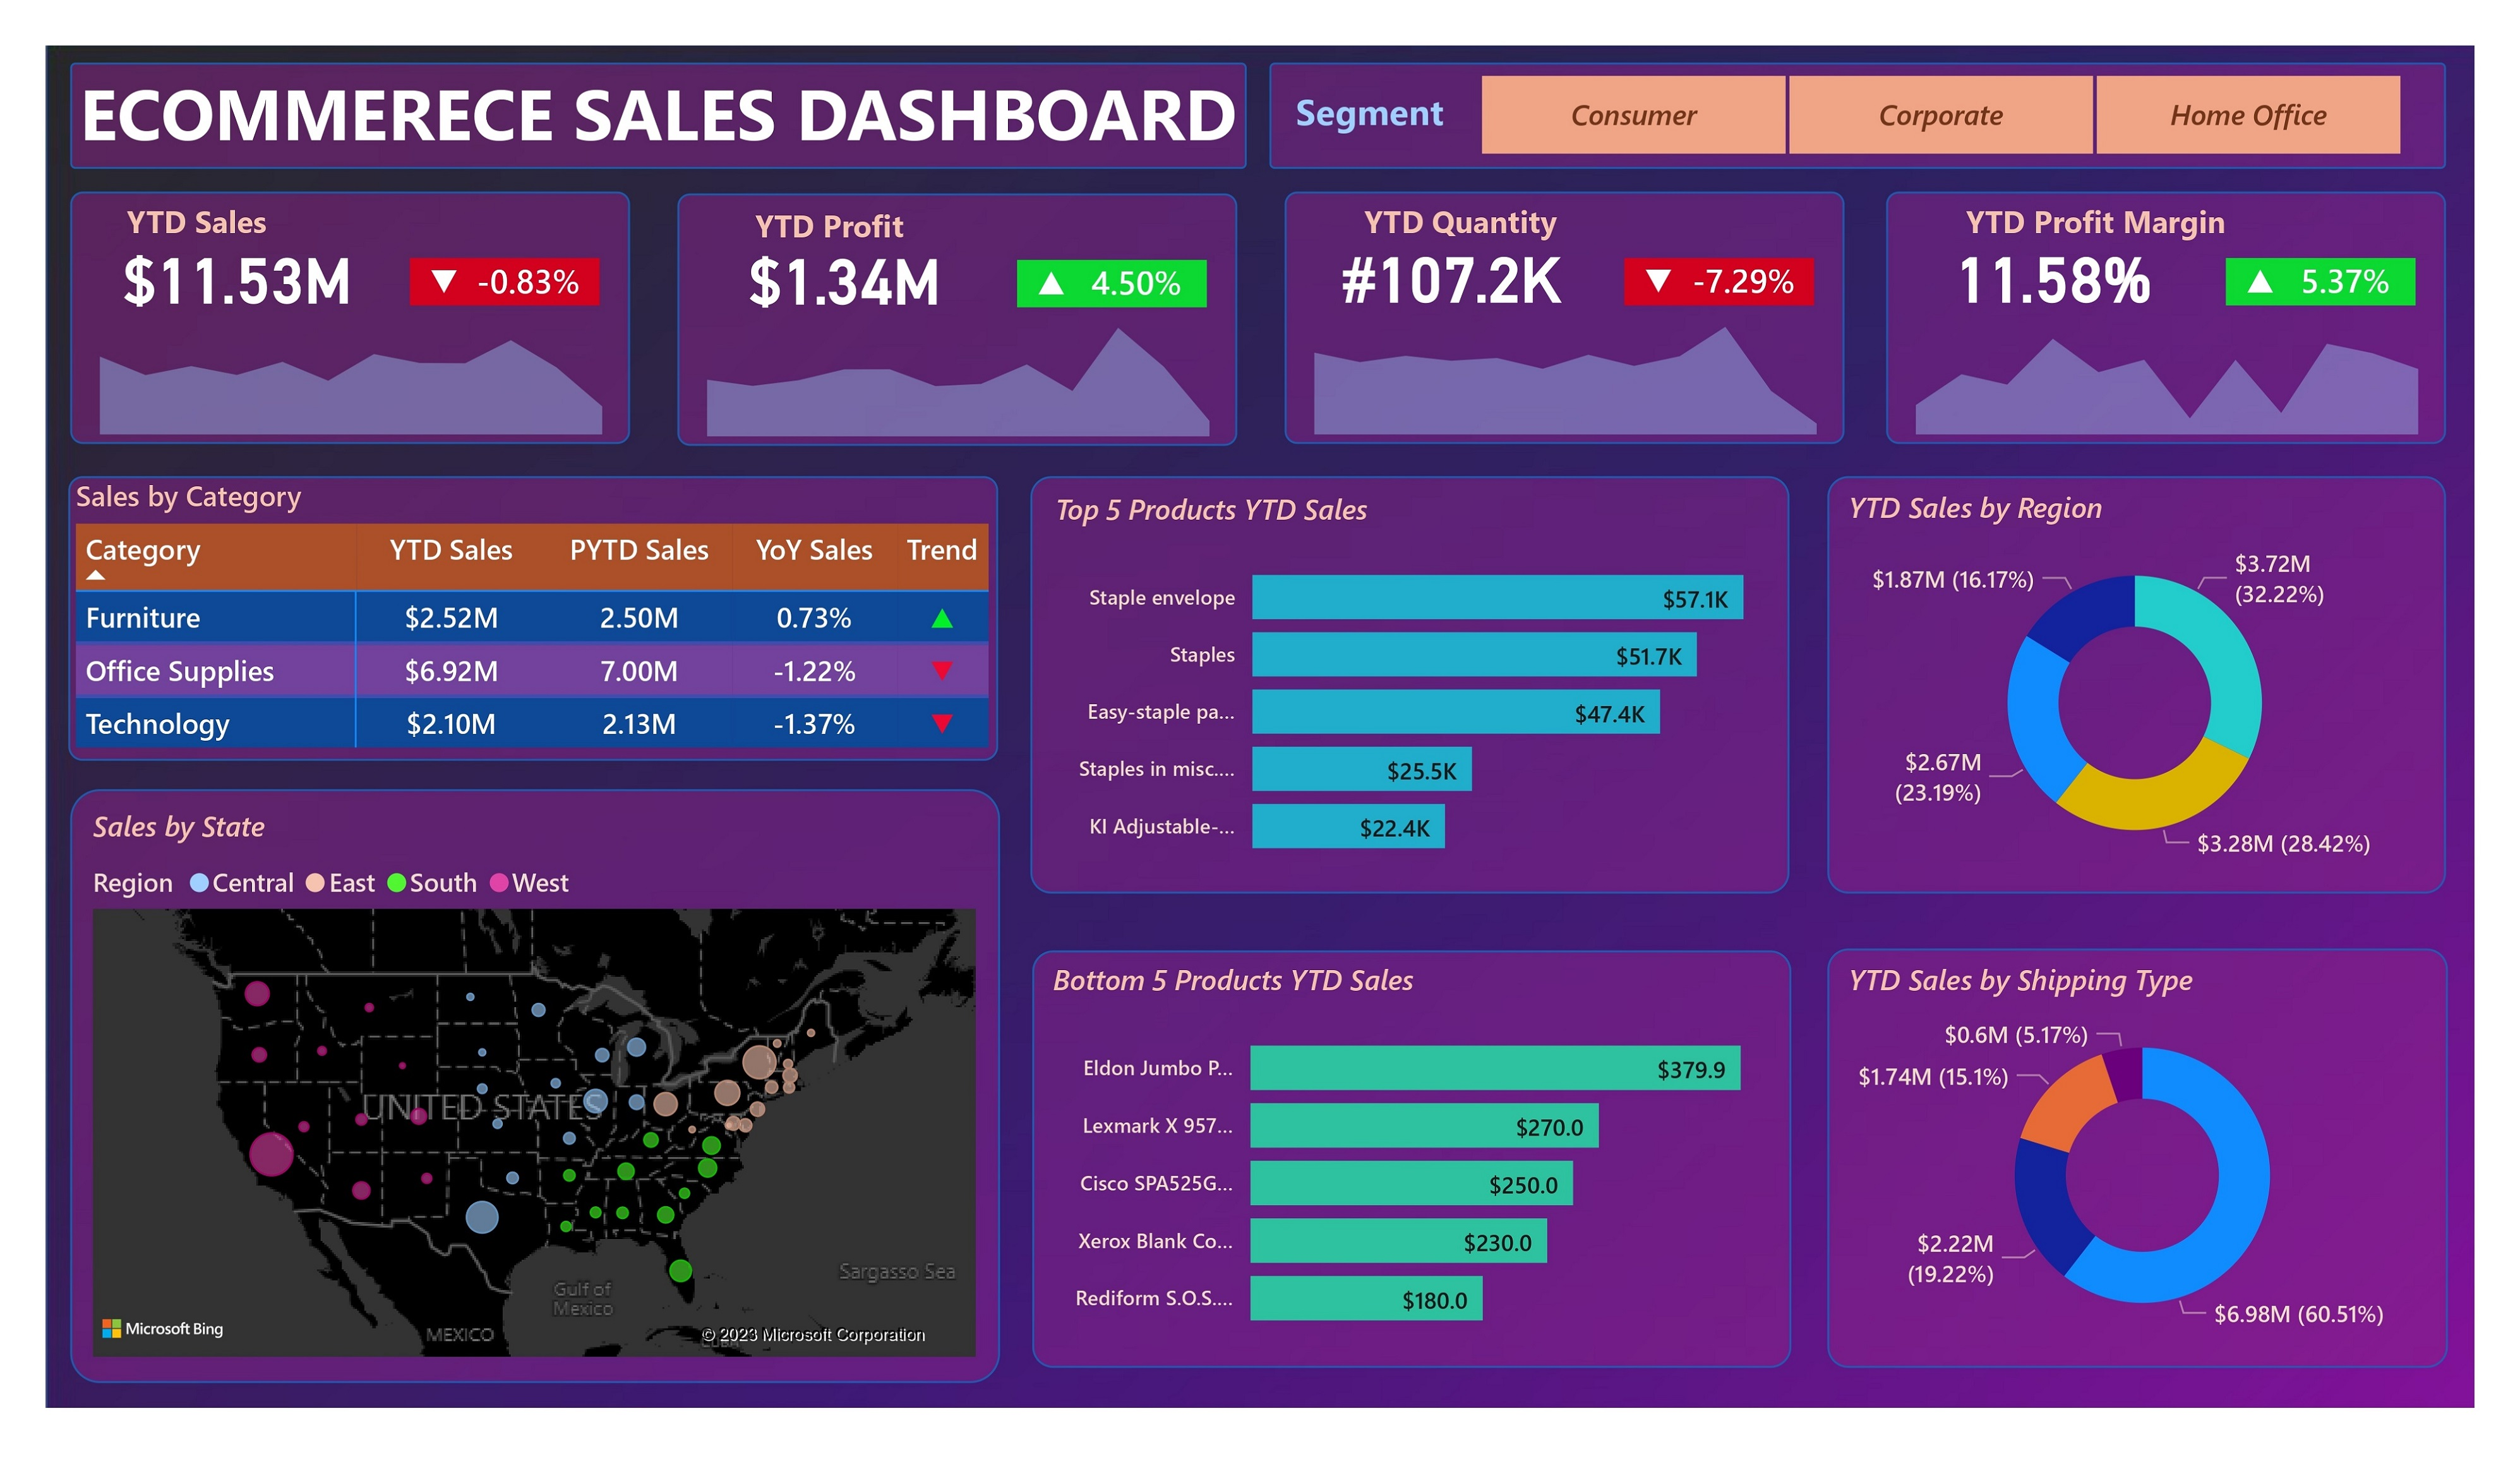

This screenshot's page, from the dashboard's own definition file:
{"tool":"powerbi","page":{"name":"Page 1","canvas":[1280,720],"ordinal":0},"visuals":[{"type":"shape","box":[12.7,9.1,620,55.5],"z":0},{"type":"textbox","box":[12.7,4.5,636.4,60],"z":1000},{"type":"shape","box":[12.7,77.3,295,133],"z":2000},{"type":"card","fields":{"Values":["ecommerce_data.YTD Sales"]},"box":[28.2,99.1,145.5,44.5],"z":3000},{"type":"areaChart","fields":{"Category":["Calendar.Month"],"Y":["Sum(ecommerce_data.sales_per_order)"]},"box":[13.6,132.7,294.5,77.3],"z":4000},{"type":"shape","box":[192,112,100,25],"z":5000},{"type":"card","fields":{"Values":["ecommerce_data.YoY"]},"box":[216.9,112.4,75.5,25.5],"z":6000},{"type":"card","fields":{"Values":["ecommerce_data.Sales Icon"]},"box":[192.3,112.4,36,25.5],"z":7000},{"type":"textbox","box":[38.2,77.3,92.7,33.6],"z":8000},{"type":"shape","box":[333,78,295,133],"z":9000},{"type":"card","fields":{"Values":["ecommerce_data.YTD Profit"]},"box":[348.5,99.8,145.5,44.5],"z":10000},{"type":"areaChart","fields":{"Category":["Calendar.Month"],"Y":["Sum(ecommerce_data.profit_per_order)"]},"box":[333.9,133.5,294.5,77.3],"z":11000},{"type":"shape","box":[512.3,112.7,100,25],"z":12000},{"type":"card","fields":{"Values":["ecommerce_data.YoY Profit"]},"box":[537.1,112.4,76,25],"z":13000},{"type":"card","fields":{"Values":["ecommerce_data.Profit Icon"]},"box":[512.1,112.4,36,25],"z":14000},{"type":"textbox","box":[369.1,78.6,99.1,32.7],"z":15000},{"type":"shape","box":[653,77,295,133],"z":16000},{"type":"card","fields":{"Values":["ecommerce_data.YTD Concatenated Qty"]},"box":[668.5,98.8,145.5,44.5],"z":17000},{"type":"areaChart","fields":{"Category":["Calendar.Month"],"Y":["Sum(ecommerce_data.order_quantity)"]},"box":[653.9,132.5,294.5,77.3],"z":18000},{"type":"shape","box":[832.3,111.7,100,25],"z":19000},{"type":"card","fields":{"Values":["ecommerce_data.YoY Qty"]},"box":[857.1,111.4,76,25],"z":20000},{"type":"card","fields":{"Values":["ecommerce_data.Qty Icon"]},"box":[832.1,111.4,36,25],"z":21000},{"type":"textbox","box":[690.1,77.4,121,33],"z":22000},{"type":"shape","box":[970,77,295,133],"z":23000},{"type":"card","fields":{"Values":["ecommerce_data.YTD Profit Margin"]},"box":[985.5,98.8,145.5,44.5],"z":24000},{"type":"areaChart","fields":{"Category":["Calendar.Month"],"Y":["ecommerce_data.Profit margin"]},"box":[970.9,132.5,294.5,77.3],"z":25000},{"type":"shape","box":[1149.3,111.7,100,25],"z":26000},{"type":"card","fields":{"Values":["ecommerce_data.YoY Profit margin"]},"box":[1174.1,111.4,76,25],"z":27000},{"type":"card","fields":{"Values":["ecommerce_data.Profit margin Icon"]},"box":[1149.1,111.4,36,25],"z":28000},{"type":"textbox","box":[1007,77,192,33],"z":29000},{"type":"shape","box":[11.8,227.3,490,150],"z":30000},{"type":"pivotTable","title":"Sales by Category","fields":{"Rows":["ecommerce_data.category_name"],"Values":["ecommerce_data.YTD Sales","ecommerce_data.PYTD Sales","ecommerce_data.YoY Sales","ecommerce_data.Sales Icon"]},"box":[10.9,227.3,490.9,150],"z":31000},{"type":"shape","box":[12.7,391.8,490,312.7],"z":32000},{"type":"map","title":"Sales by State","fields":{"Y":["us_state_long_lat_codes.latitude"],"X":["us_state_long_lat_codes.longitude"],"Series":["ecommerce_data.customer_region"],"Size":["ecommerce_data.YTD Sales"]},"box":[20,400.9,474.5,295.5],"z":33000},{"type":"shape","box":[519.2,227.5,400,220],"z":34000},{"type":"shape","box":[520.2,476.5,400,220],"z":35000},{"type":"barChart","title":"Top 5 Products YTD Sales","fields":{"Y":["ecommerce_data.YTD Sales"],"Category":["ecommerce_data.product_name"]},"box":[526.5,233.8,386.4,207.3],"z":36000},{"type":"barChart","title":"Bottom 5 Products YTD Sales","fields":{"Y":["ecommerce_data.YTD Sales"],"Category":["ecommerce_data.product_name"]},"box":[526.3,481.9,386.2,207.8],"z":37000},{"type":"shape","box":[939,227,326,220],"z":38000},{"type":"shape","box":[939,476,327,221],"z":39000},{"type":"donutChart","title":"YTD Sales by Region","fields":{"Category":["ecommerce_data.customer_region"],"Y":["ecommerce_data.YTD Sales"]},"box":[945,233,312,207],"z":40000},{"type":"donutChart","title":"YTD Sales by Shipping Type","fields":{"Y":["ecommerce_data.YTD Sales"],"Category":["ecommerce_data.shipping_type"]},"box":[945,482,320,207],"z":41000},{"type":"shape","box":[645,9,620,56],"z":42000},{"type":"slicer","fields":{"Values":["ecommerce_data.customer_segment"]},"box":[731,9,534,55],"z":43000},{"type":"textbox","box":[654,17,97,35],"z":44000}]}

Visuals, with their boxes in screenshot pixels (x1, y1, x2, y2), scaled from the page's 1280x720 canvas onto the 2520x1457 screenshot:
shape: {"left": 25, "top": 18, "right": 1245, "bottom": 131}
textbox: {"left": 25, "top": 9, "right": 1278, "bottom": 131}
shape: {"left": 25, "top": 157, "right": 606, "bottom": 426}
card - ecommerce_data.YTD Sales: {"left": 56, "top": 201, "right": 342, "bottom": 291}
areaChart - Calendar.Month x Sum(ecommerce_data.sales_per_order): {"left": 27, "top": 268, "right": 606, "bottom": 425}
shape: {"left": 378, "top": 227, "right": 575, "bottom": 277}
card - ecommerce_data.YoY: {"left": 427, "top": 227, "right": 575, "bottom": 279}
card - ecommerce_data.Sales Icon: {"left": 378, "top": 227, "right": 450, "bottom": 279}
textbox: {"left": 75, "top": 157, "right": 258, "bottom": 224}
shape: {"left": 656, "top": 158, "right": 1237, "bottom": 427}
card - ecommerce_data.YTD Profit: {"left": 686, "top": 202, "right": 973, "bottom": 292}
areaChart - Calendar.Month x Sum(ecommerce_data.profit_per_order): {"left": 657, "top": 270, "right": 1237, "bottom": 426}
shape: {"left": 1009, "top": 228, "right": 1206, "bottom": 279}
card - ecommerce_data.YoY Profit: {"left": 1057, "top": 227, "right": 1207, "bottom": 278}
card - ecommerce_data.Profit Icon: {"left": 1008, "top": 227, "right": 1079, "bottom": 278}
textbox: {"left": 727, "top": 159, "right": 921, "bottom": 225}
shape: {"left": 1286, "top": 156, "right": 1866, "bottom": 425}
card - ecommerce_data.YTD Concatenated Qty: {"left": 1316, "top": 200, "right": 1602, "bottom": 290}
areaChart - Calendar.Month x Sum(ecommerce_data.order_quantity): {"left": 1287, "top": 268, "right": 1867, "bottom": 424}
shape: {"left": 1638, "top": 226, "right": 1835, "bottom": 277}
card - ecommerce_data.YoY Qty: {"left": 1688, "top": 225, "right": 1837, "bottom": 276}
card - ecommerce_data.Qty Icon: {"left": 1638, "top": 225, "right": 1709, "bottom": 276}
textbox: {"left": 1359, "top": 157, "right": 1597, "bottom": 224}
shape: {"left": 1910, "top": 156, "right": 2490, "bottom": 425}
card - ecommerce_data.YTD Profit Margin: {"left": 1940, "top": 200, "right": 2227, "bottom": 290}
areaChart - Calendar.Month x ecommerce_data.Profit margin: {"left": 1911, "top": 268, "right": 2491, "bottom": 424}
shape: {"left": 2263, "top": 226, "right": 2459, "bottom": 277}
card - ecommerce_data.YoY Profit margin: {"left": 2312, "top": 225, "right": 2461, "bottom": 276}
card - ecommerce_data.Profit margin Icon: {"left": 2262, "top": 225, "right": 2333, "bottom": 276}
textbox: {"left": 1983, "top": 156, "right": 2361, "bottom": 222}
shape: {"left": 23, "top": 460, "right": 988, "bottom": 764}
"Sales by Category" pivotTable: {"left": 21, "top": 460, "right": 988, "bottom": 764}
shape: {"left": 25, "top": 793, "right": 990, "bottom": 1425}
"Sales by State" map: {"left": 39, "top": 812, "right": 973, "bottom": 1409}
shape: {"left": 1022, "top": 460, "right": 1809, "bottom": 906}
shape: {"left": 1024, "top": 964, "right": 1811, "bottom": 1410}
"Top 5 Products YTD Sales" barChart: {"left": 1036, "top": 473, "right": 1797, "bottom": 892}
"Bottom 5 Products YTD Sales" barChart: {"left": 1036, "top": 975, "right": 1796, "bottom": 1396}
shape: {"left": 1849, "top": 459, "right": 2490, "bottom": 904}
shape: {"left": 1849, "top": 963, "right": 2492, "bottom": 1410}
"YTD Sales by Region" donutChart: {"left": 1861, "top": 472, "right": 2475, "bottom": 890}
"YTD Sales by Shipping Type" donutChart: {"left": 1861, "top": 975, "right": 2490, "bottom": 1394}
shape: {"left": 1270, "top": 18, "right": 2490, "bottom": 131}
slicer - ecommerce_data.customer_segment: {"left": 1439, "top": 18, "right": 2490, "bottom": 129}
textbox: {"left": 1288, "top": 34, "right": 1479, "bottom": 105}
